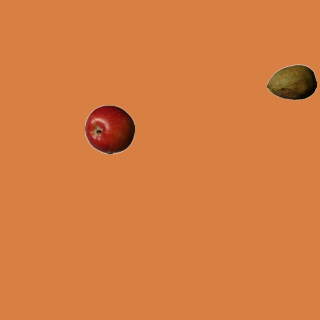Apple Braeburn: (84, 104, 134, 154)
Papaya: (266, 57, 316, 107)
